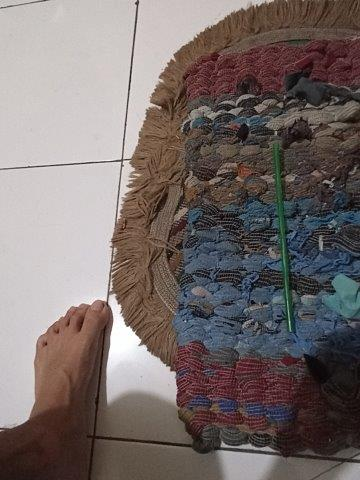sedotan: (273, 144, 296, 333)
